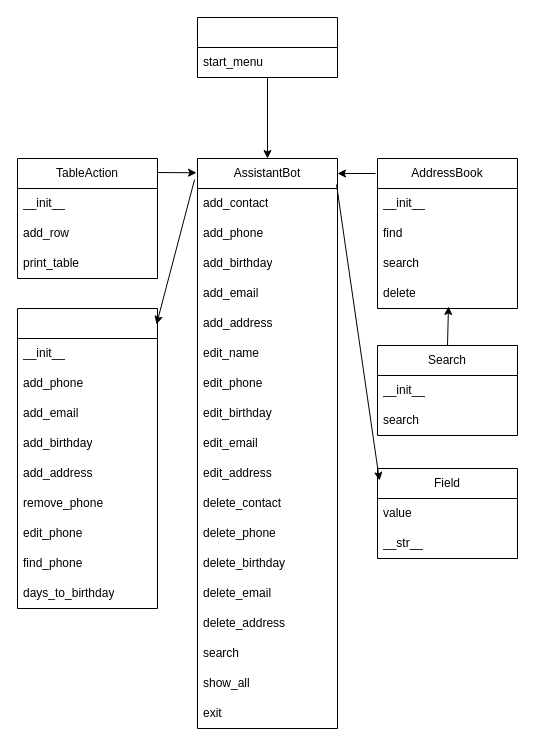
This 535x746 diagram has some shape labels left out. Each missing label, with the box of its shape:
Main: (196, 16, 338, 78)
Record: (16, 308, 158, 608)
